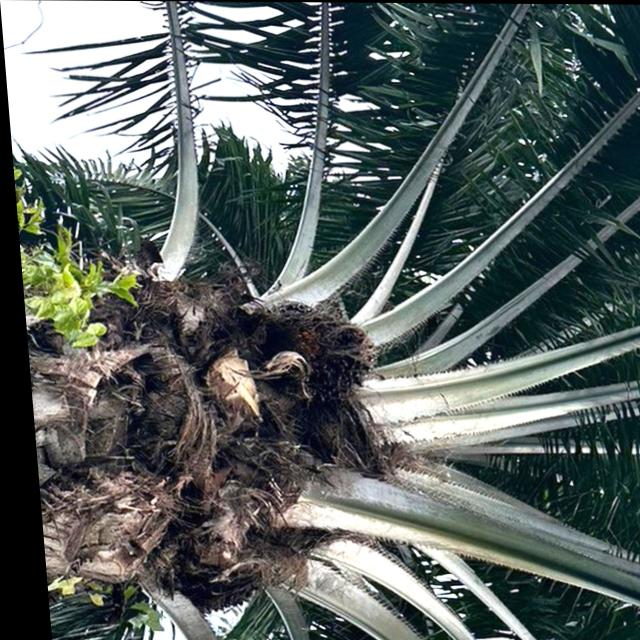almost: (273, 294, 390, 399)
